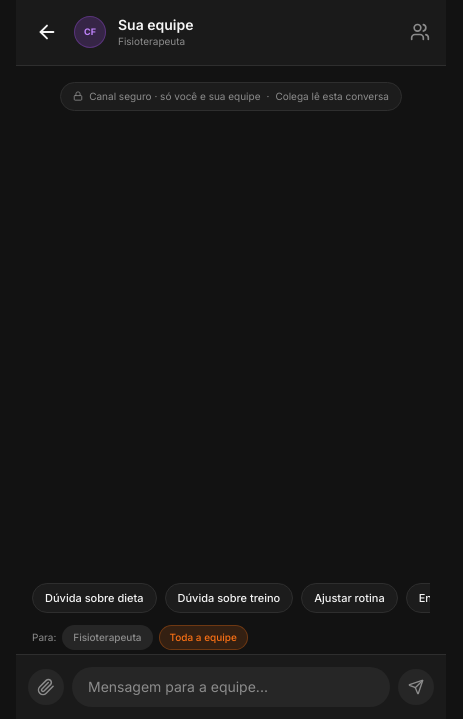
Scenario: TeamChat / Para: (PDF do Ernâni, tela 26) › escolher um chip marca o destinatário (badge 'Direcionado a') e escolher de novo desmarca
Click the button "Fisioterapeuta" at (107, 638), box [62,625,153,650]
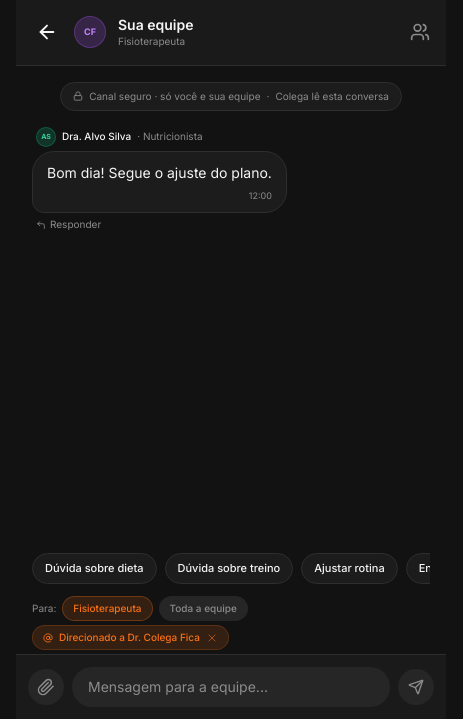
Now the text "Direcionado a Dr. Colega Fica" is shown, box [59,630,200,645]
Click the button "Fisioterapeuta" at (107, 608), box [62,596,153,620]
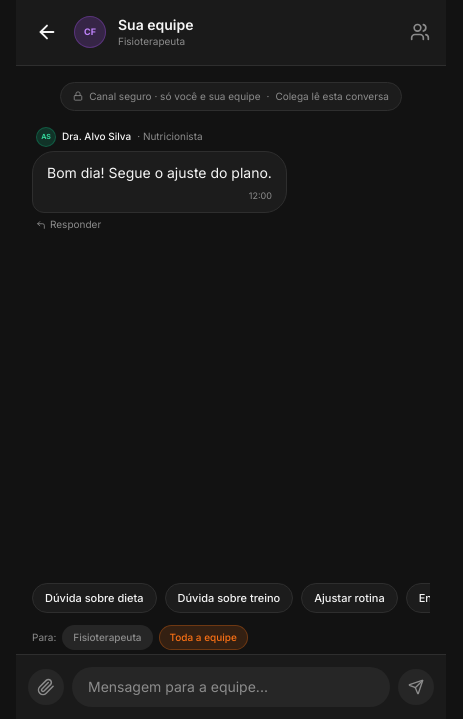
Now the text "Direcionado a Dr. Colega Fica" is gone
Click the button "Fisioterapeuta" at (107, 638), box [62,625,153,650]
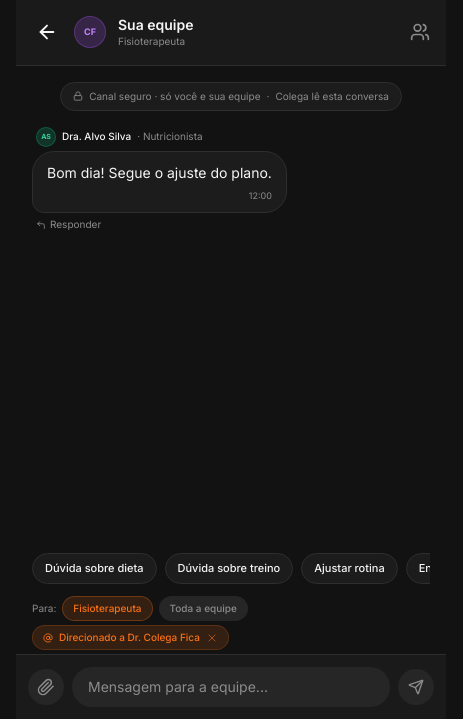
Click the button "Toda a equipe" at (203, 608), box [158,596,248,620]
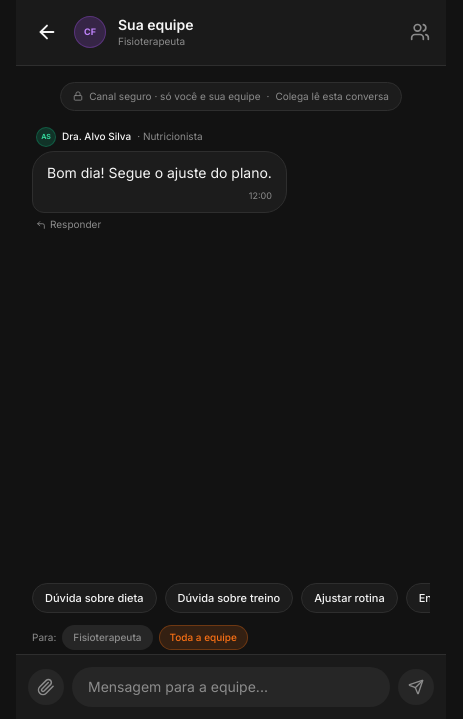
Now the text "Direcionado a Dr. Colega Fica" is gone
